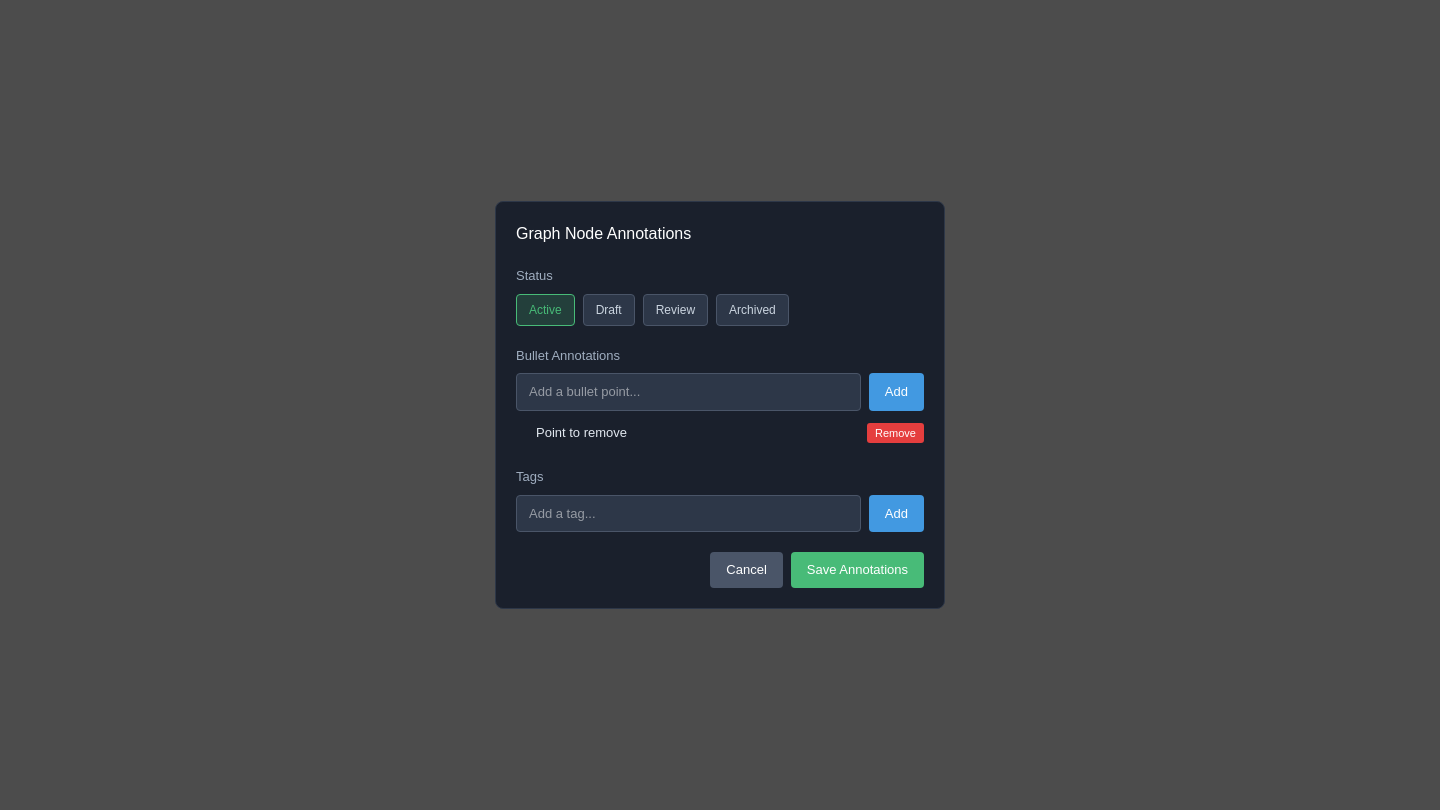
Test: GraphAnnotation › removes bullet annotation
expect the text "Point to remove" is shown: met, box [536,425,627,440]
Click the button "Remove" at (896, 433), box [867,423,924,443]
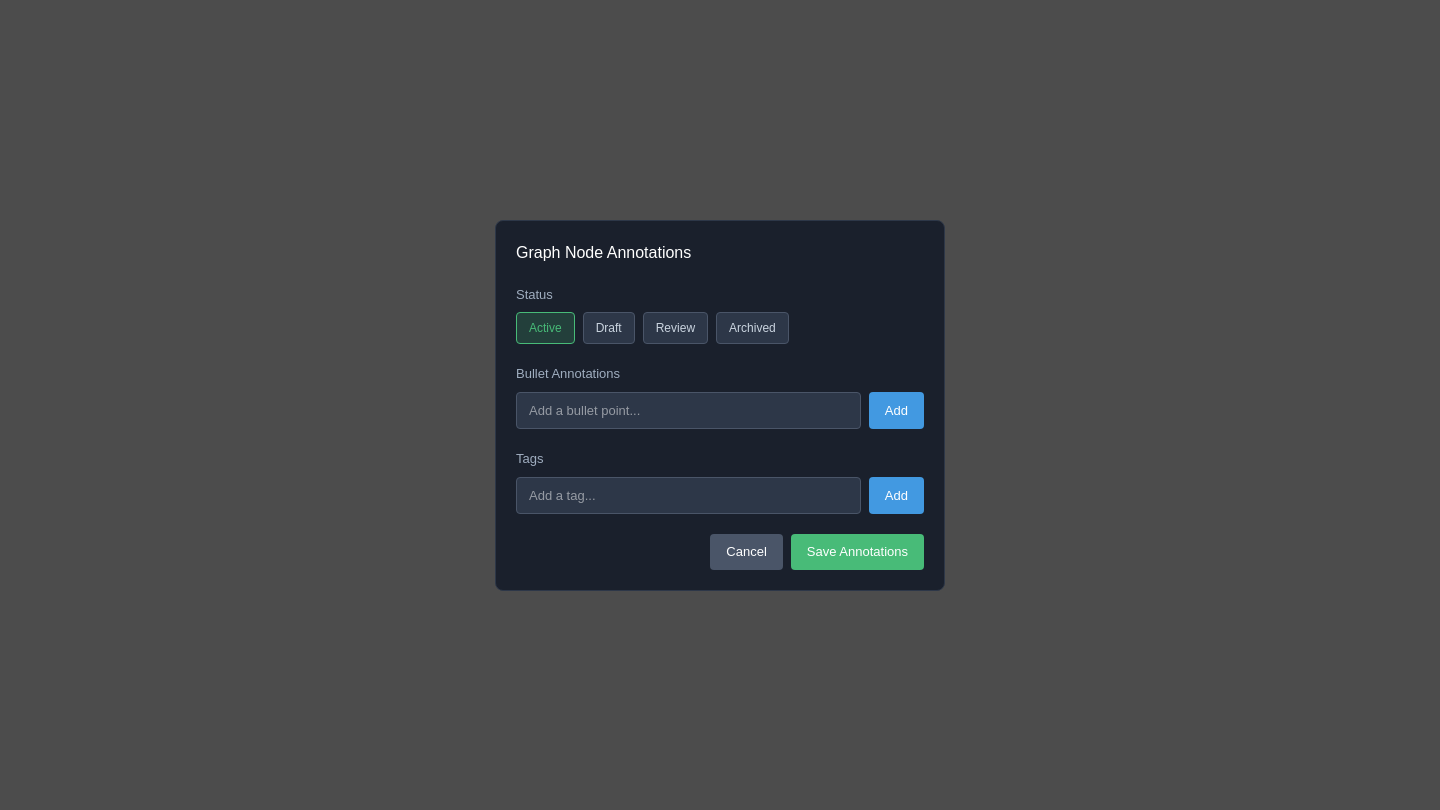
expect the text "Point to remove" is gone: met
